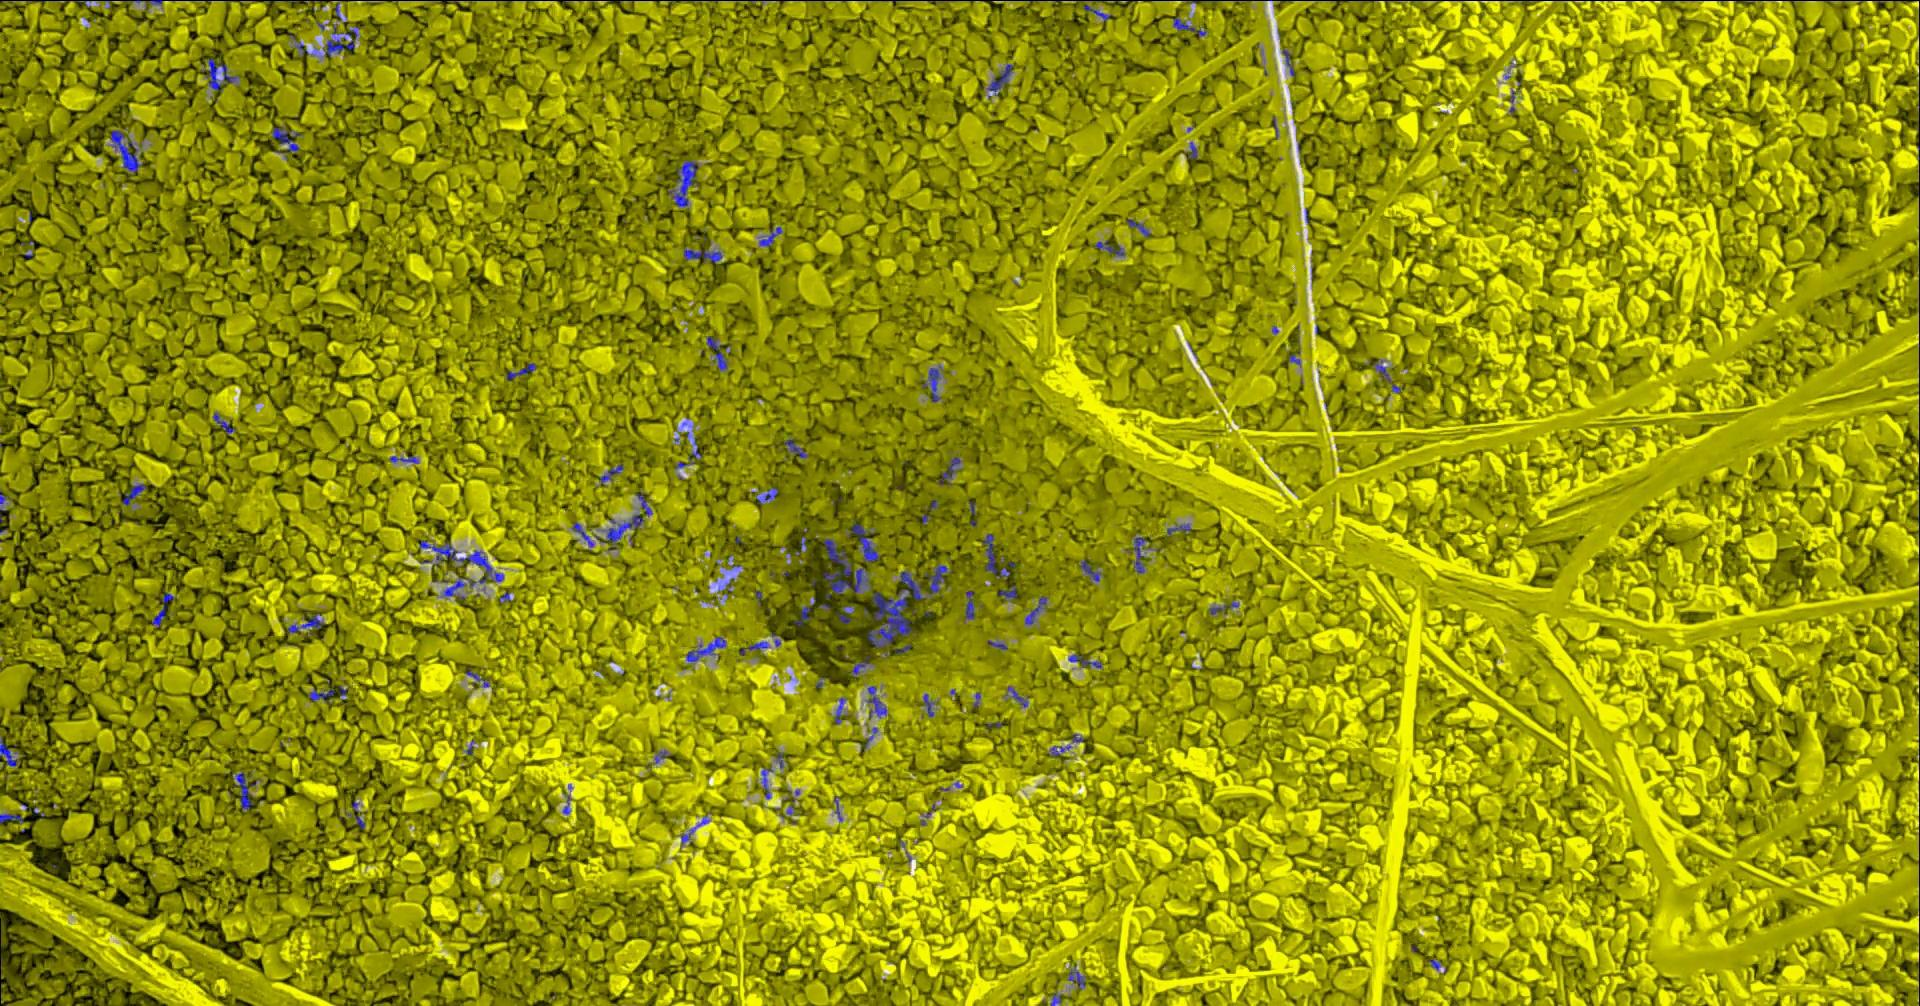ant: (419, 539, 503, 594), (823, 539, 869, 598), (594, 514, 643, 550), (667, 159, 698, 207), (982, 533, 1015, 579), (109, 130, 143, 171), (201, 57, 239, 90), (850, 522, 879, 561), (324, 24, 359, 56), (684, 636, 725, 661), (151, 592, 177, 627), (987, 64, 1013, 95), (231, 771, 251, 810), (286, 612, 323, 633), (272, 124, 300, 151), (927, 564, 951, 594), (706, 337, 728, 370), (1023, 594, 1046, 624), (792, 597, 815, 626), (1172, 17, 1206, 36), (921, 367, 940, 401), (683, 246, 721, 263), (867, 685, 886, 716), (937, 456, 959, 484), (121, 483, 146, 506), (674, 446, 701, 467), (571, 521, 593, 547), (345, 800, 364, 829), (505, 362, 535, 380), (0, 735, 17, 766), (1083, 4, 1111, 22), (1004, 686, 1027, 708), (599, 464, 623, 484), (857, 727, 877, 751), (1095, 239, 1124, 255), (1067, 654, 1101, 668), (1133, 536, 1145, 573), (758, 226, 781, 246), (212, 412, 235, 432), (1079, 558, 1100, 580), (783, 438, 808, 457), (309, 685, 334, 702), (1126, 218, 1149, 238), (465, 669, 489, 687), (850, 655, 869, 677), (1373, 359, 1390, 382), (756, 486, 778, 504), (739, 641, 767, 655), (1208, 601, 1238, 614), (1067, 967, 1084, 988), (635, 493, 651, 516), (997, 584, 1017, 602), (761, 767, 772, 798), (833, 697, 846, 723), (1283, 48, 1294, 75), (1166, 523, 1191, 535), (923, 694, 935, 716), (965, 589, 974, 619), (389, 455, 417, 464), (836, 605, 850, 622), (1048, 746, 1070, 756), (0, 813, 22, 823), (1050, 992, 1062, 1005)
